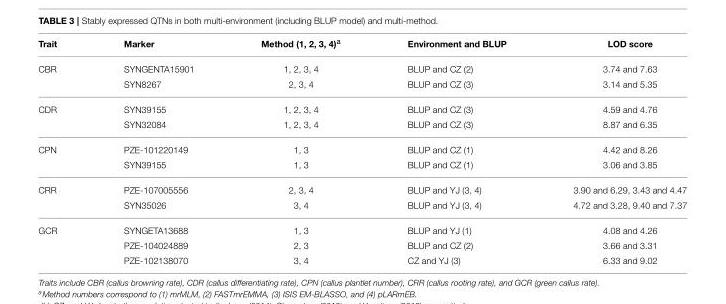table: (37, 37, 686, 264)
table column: (373, 37, 539, 264), (226, 37, 373, 264), (539, 37, 686, 264), (89, 37, 226, 264), (37, 37, 89, 264)
table column header: (37, 37, 686, 56)
table row: (37, 116, 686, 137), (37, 56, 686, 76), (37, 76, 686, 96), (37, 96, 686, 116), (37, 137, 686, 157), (37, 157, 686, 177), (37, 177, 686, 197), (37, 197, 686, 217), (37, 217, 686, 237), (37, 37, 686, 56), (37, 237, 686, 252), (37, 252, 686, 264)
table spanning cell: (37, 217, 89, 264), (37, 96, 89, 137), (37, 56, 89, 96), (37, 137, 89, 177), (37, 177, 89, 217)
